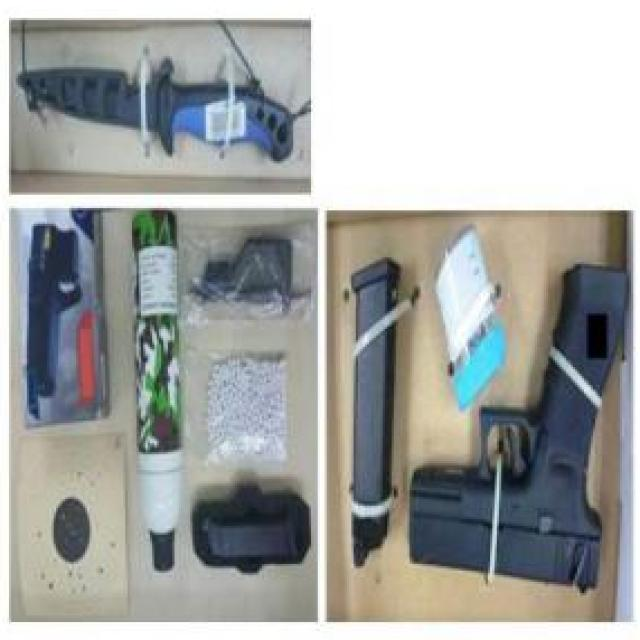pistol: (407, 264, 630, 589)
